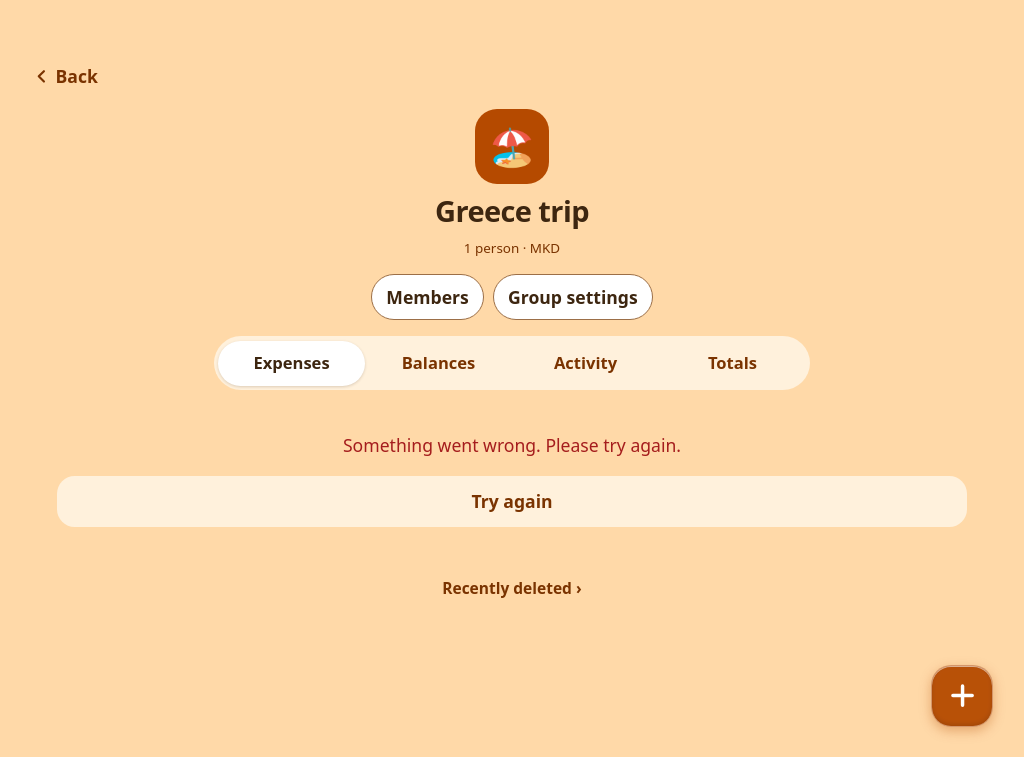
Test case: GroupScreen expenses › loading and failing › asks for the expenses again and shows them when the retry button is pressed
Click the button "Try again".
click(512, 501)  # box [56,474,968,528]
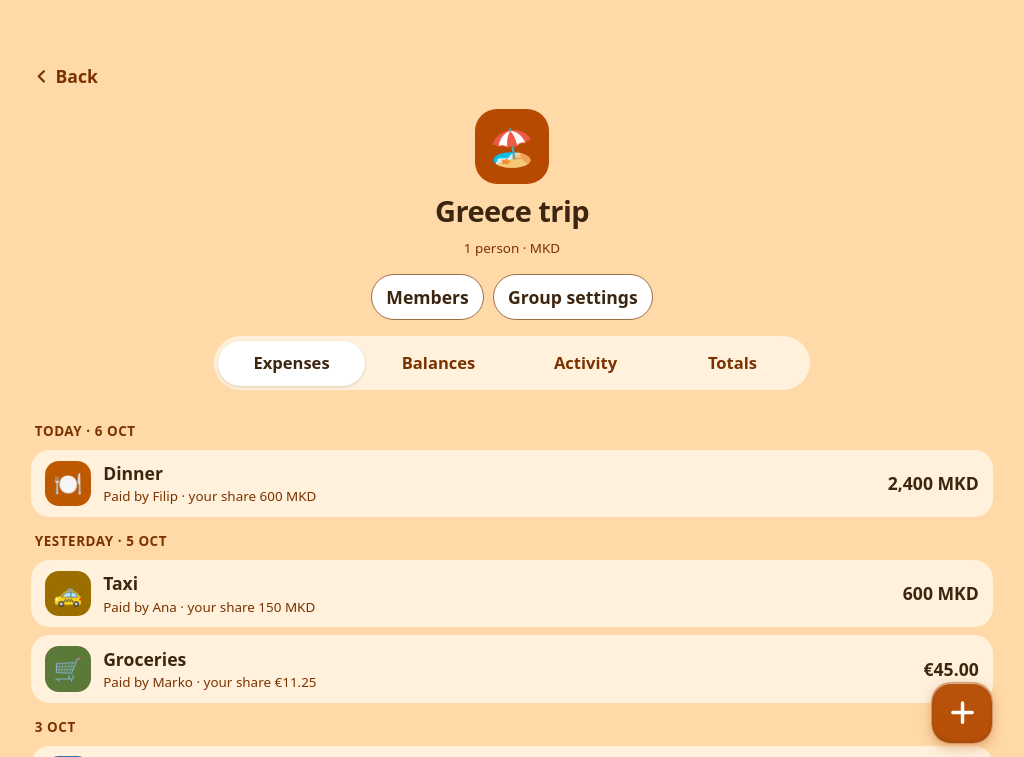
Result: the link "🍽️ Dinner Paid by Filip · your share 600 MKD 2,400 MKD" is shown at [31,450,993,517]
Result: the message "Something went wrong. Please try again. Try again" is gone
